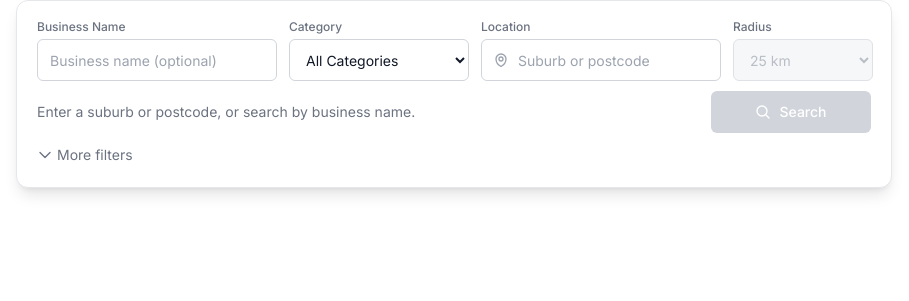
Test: SearchBar › shows keyword input when filters toggled
Click the button "More filters" at (85, 155), box [37,145,133,165]
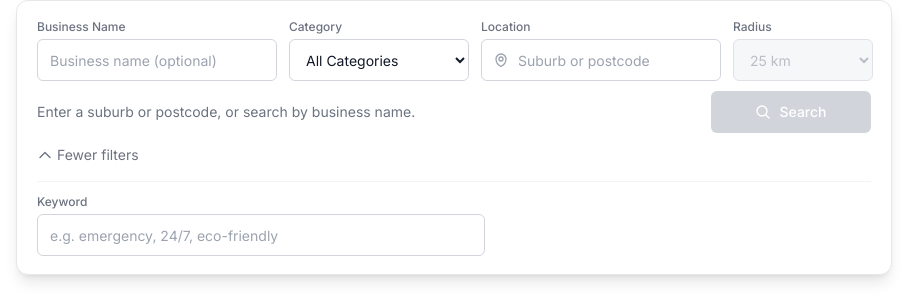
Expected: the field with placeholder "e.g. emergency, 24/7, eco-friendly" is shown, [37,214,485,256]
